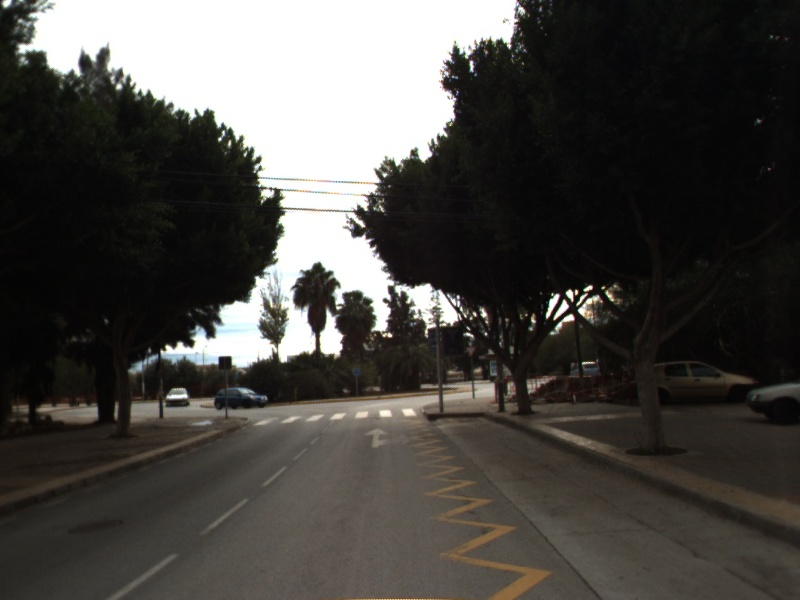STRAIGHT_RIGHT: (362, 425, 413, 450)
